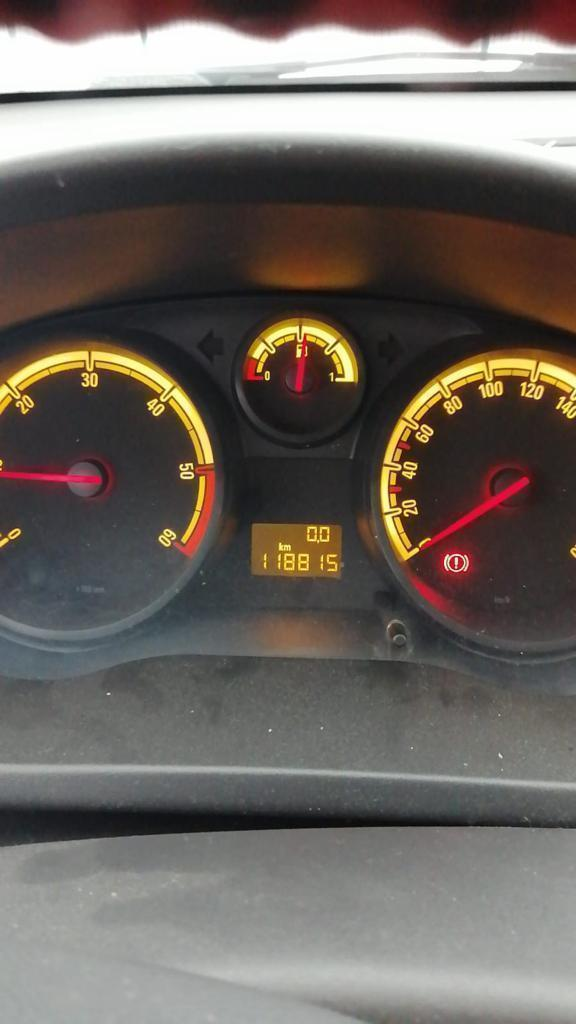,: (316, 539, 319, 543)
0: (306, 525, 317, 542), (319, 525, 330, 542)
1: (276, 552, 282, 571), (319, 551, 324, 572), (262, 551, 267, 571)
5: (326, 552, 338, 572)
8: (296, 552, 310, 572), (283, 552, 295, 571)
X: (277, 541, 283, 551), (283, 543, 291, 550)
odometer: (248, 520, 344, 580)
